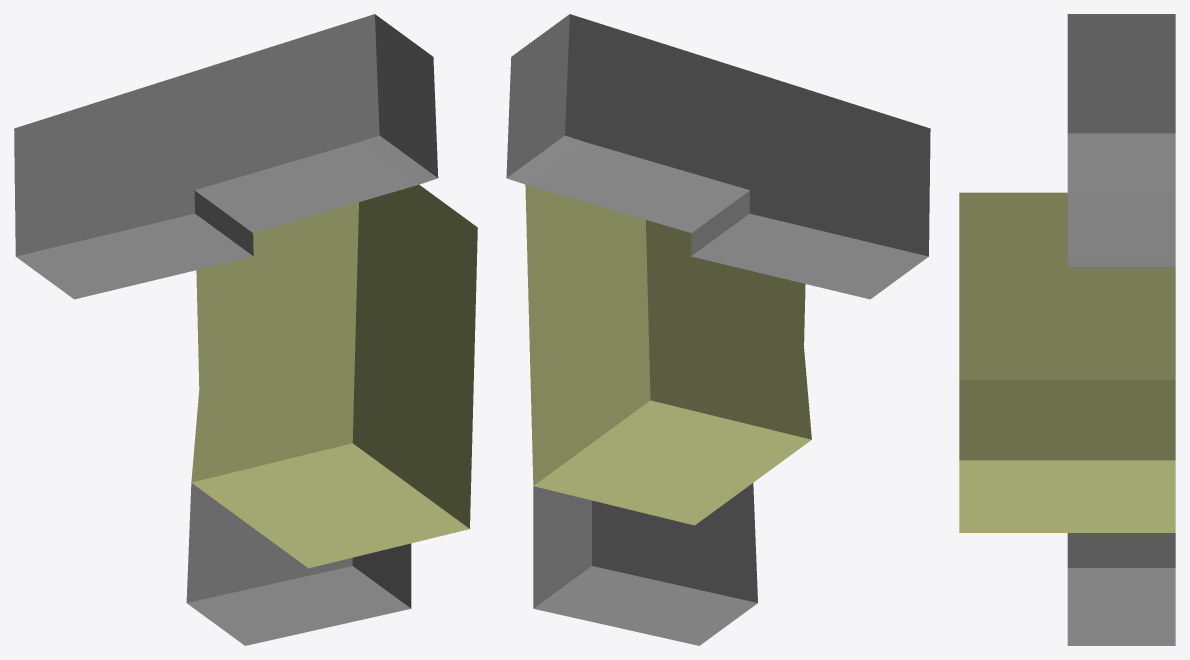
3 renders of one model, left to right at view 1: azimuth 30°, elevation 25°; view 2: azimuth 150°, elevation 25°; view 3: azimuth 270°, elevation 25°, orthographic. The views are drawn at different scales.
Visible parts, largest first — view 1: 0_1_0_0_2_2_1_2_2_0; view 2: 0_1_0_0_2_2_1_2_2_0; view 3: 0_1_0_0_2_2_1_2_2_0.
Boxes of the visible parts, x1,y1,x2,y2 form: 0_1_0_0_2_2_1_2_2_0: (14,14,477,645); 0_1_0_0_2_2_1_2_2_0: (506,14,930,645); 0_1_0_0_2_2_1_2_2_0: (959,14,1175,645).
Size of the model in its own units: 10.8 by 15.43 by 6.
